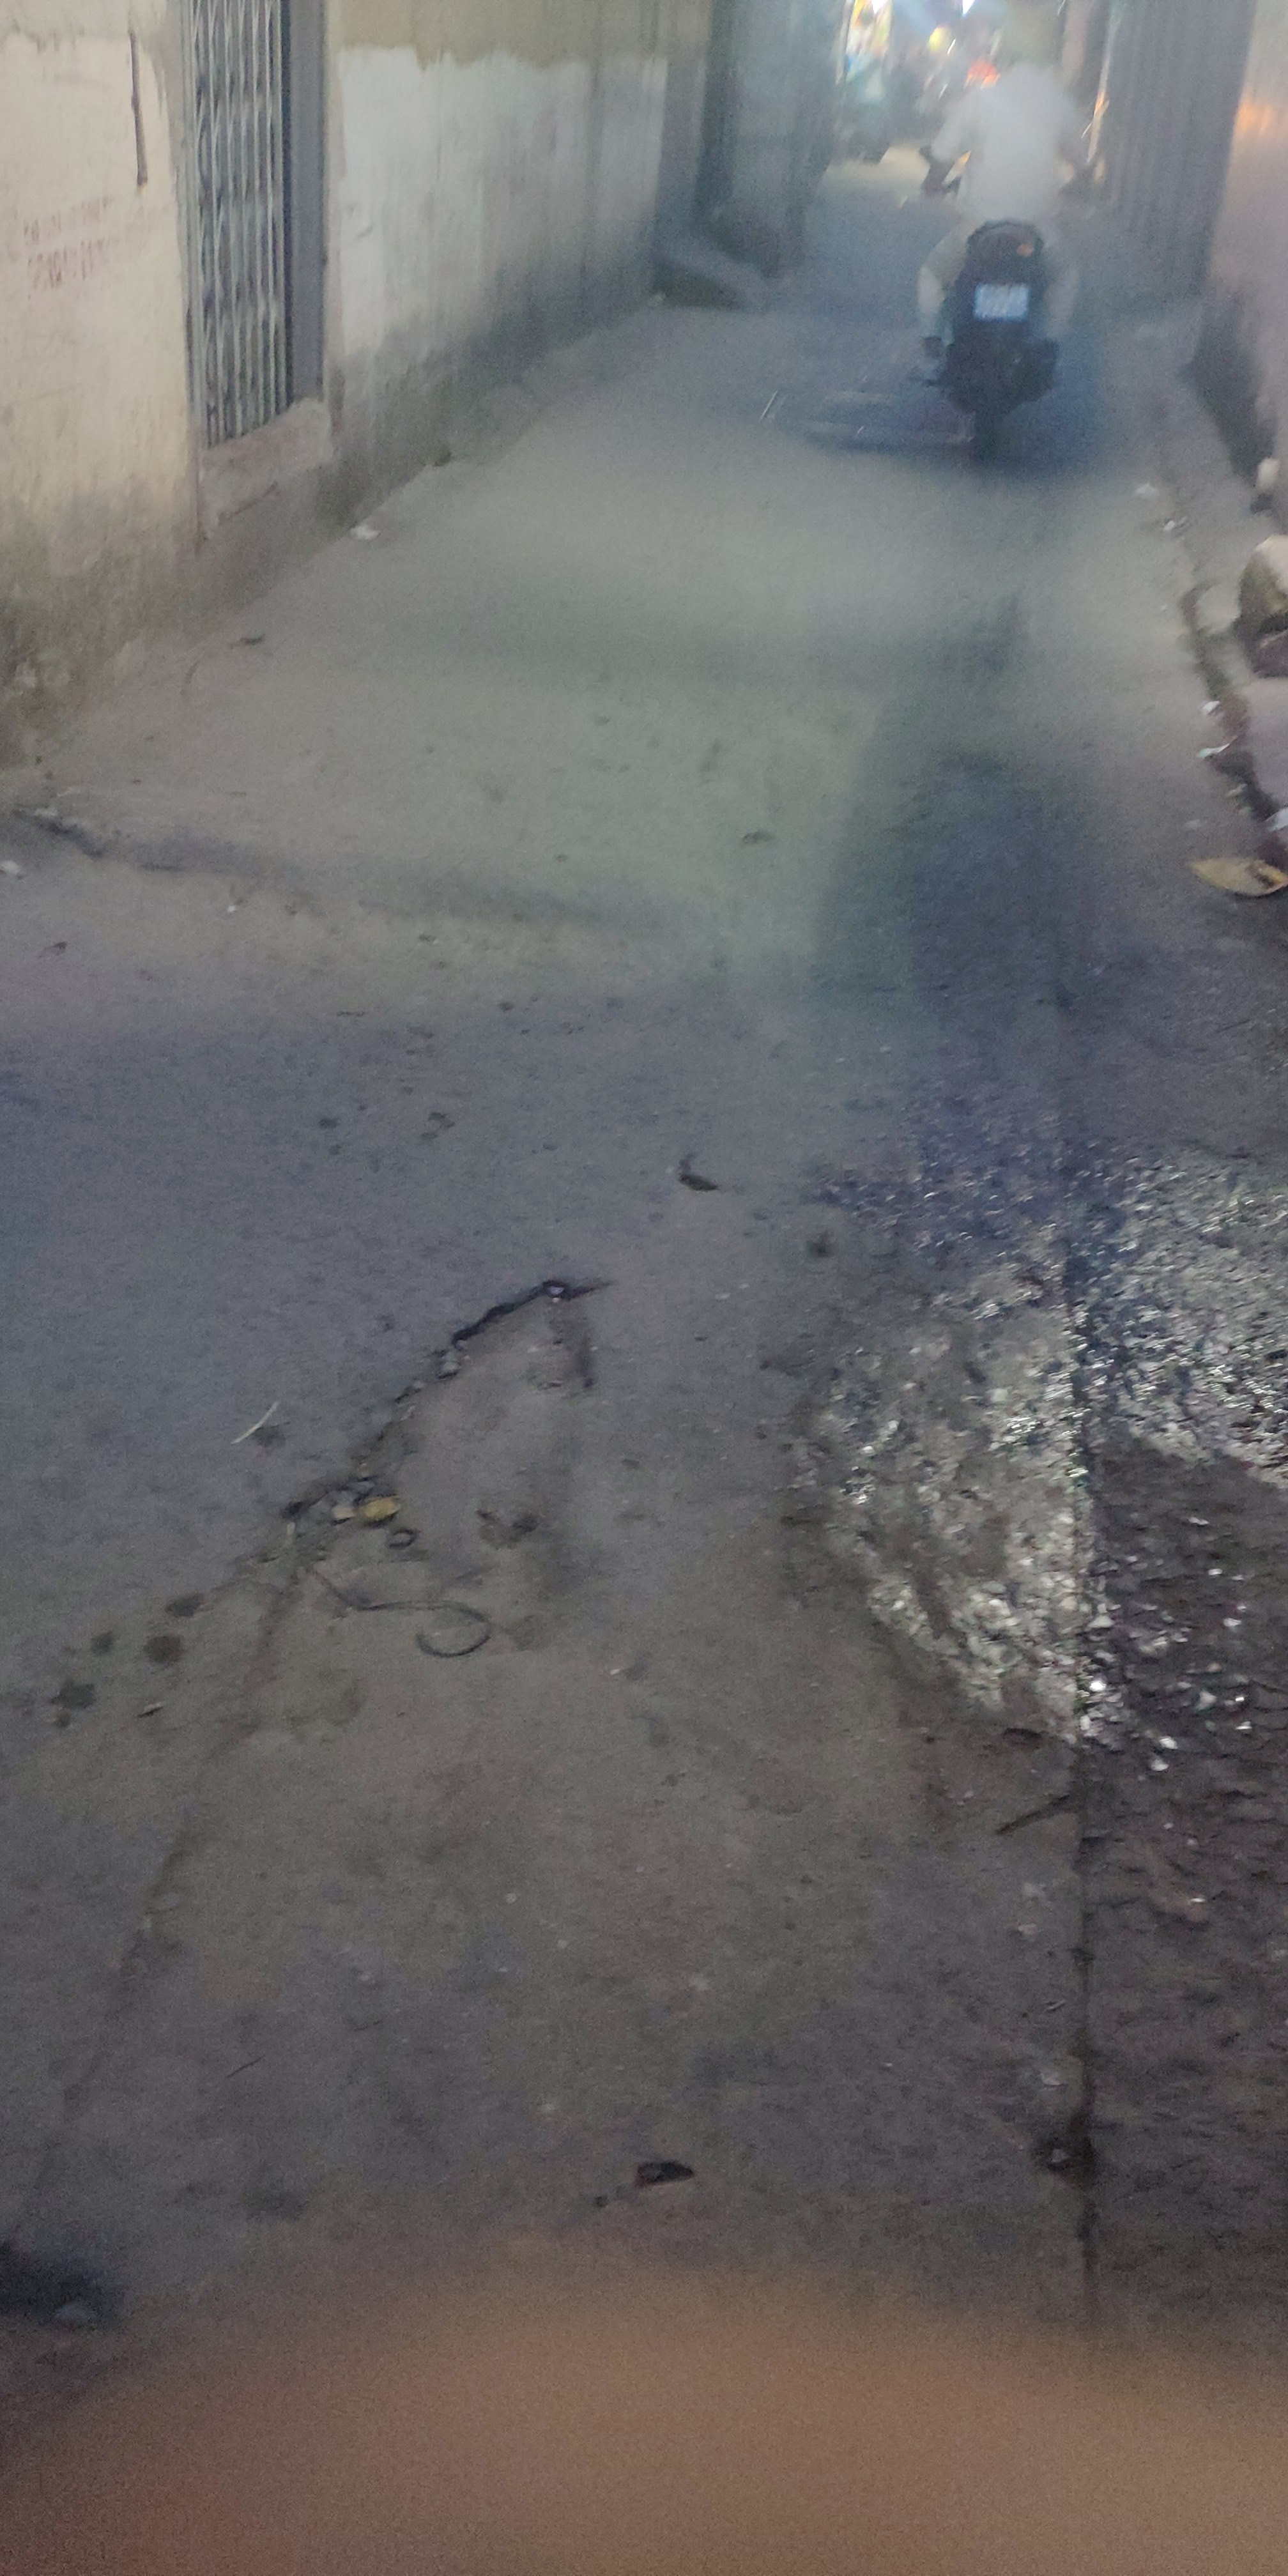hole: (302, 1283, 606, 1653)
